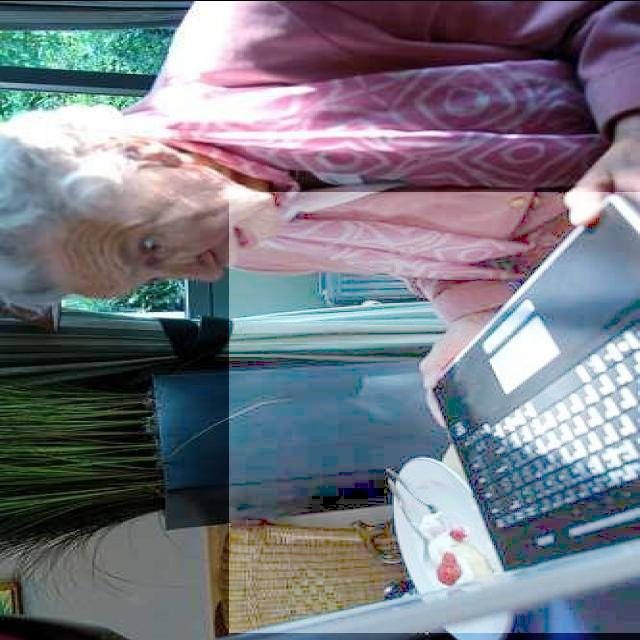-keyboard-: (229, 192, 640, 633)
